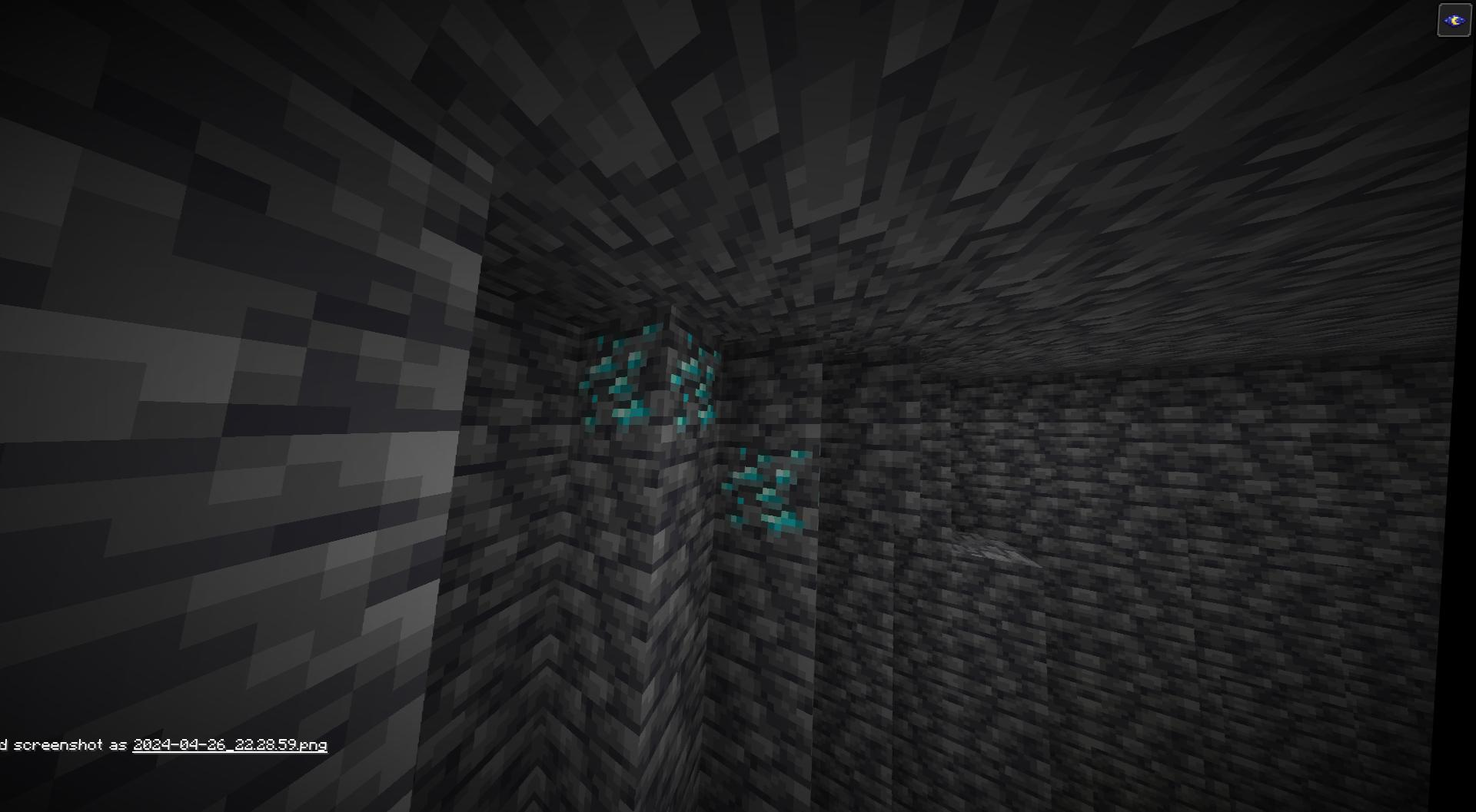diamond ore: (714, 436, 826, 542), (574, 329, 672, 436), (668, 330, 727, 433)
